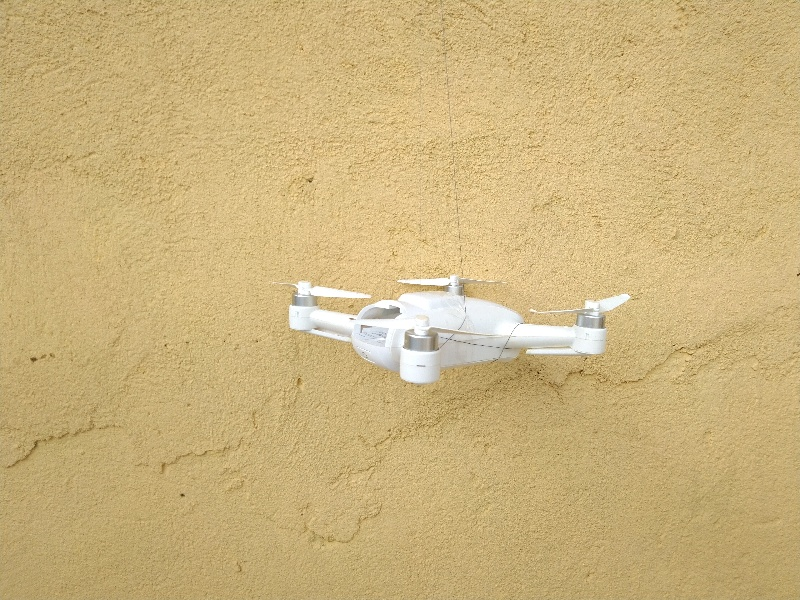drone: (275, 260, 640, 396)
